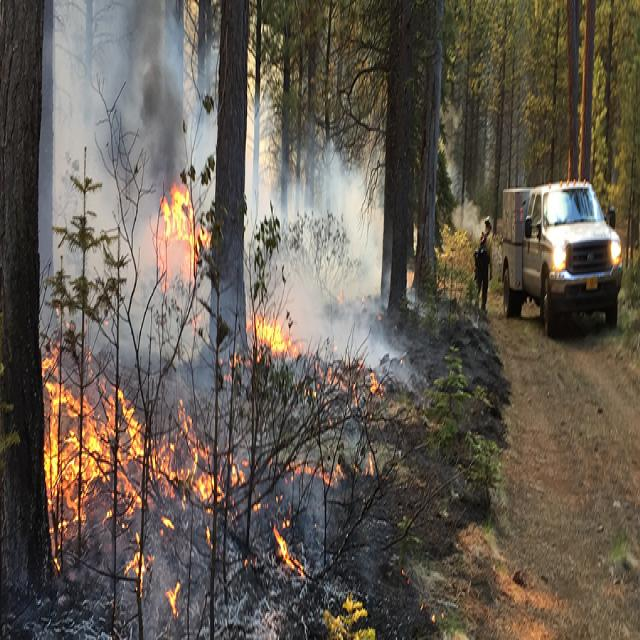Fire: (43, 349, 143, 562), (157, 182, 196, 290), (252, 310, 304, 363)
Smoke: (247, 149, 383, 360), (102, 18, 189, 310)
